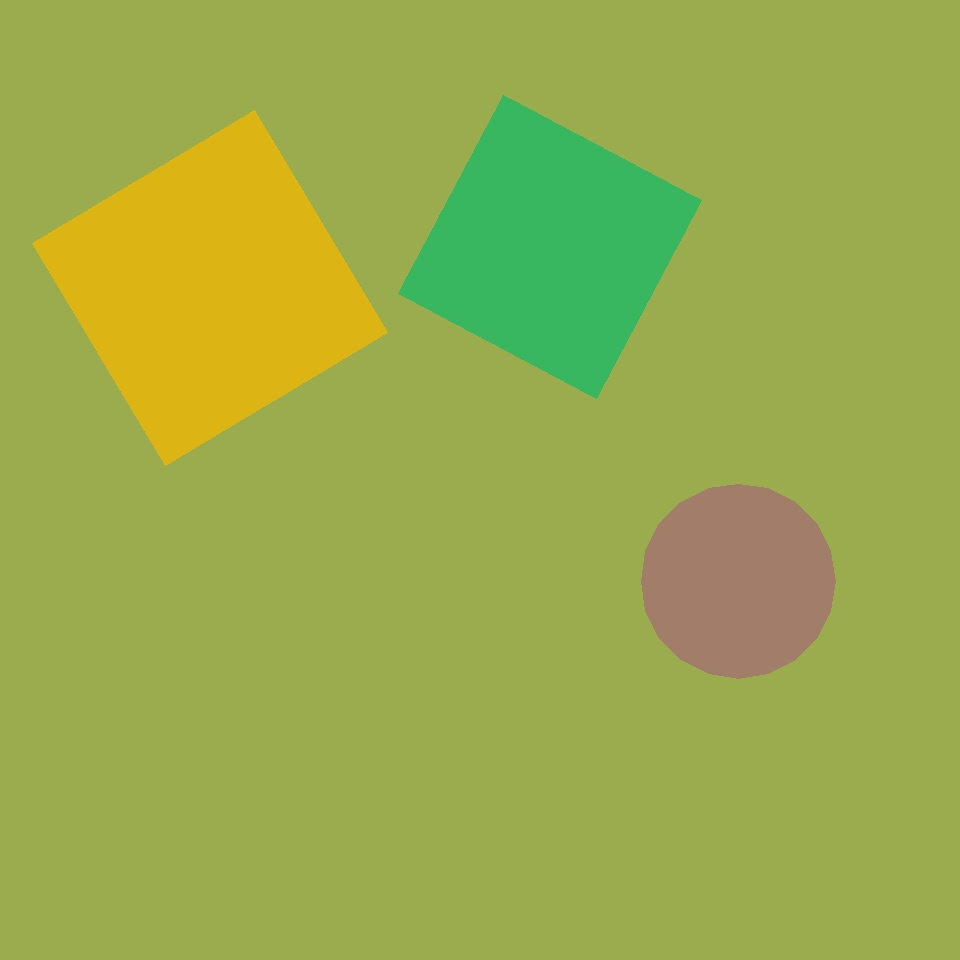square: (32, 110, 388, 466), (398, 95, 702, 398)
triangle: (641, 484, 835, 678)
